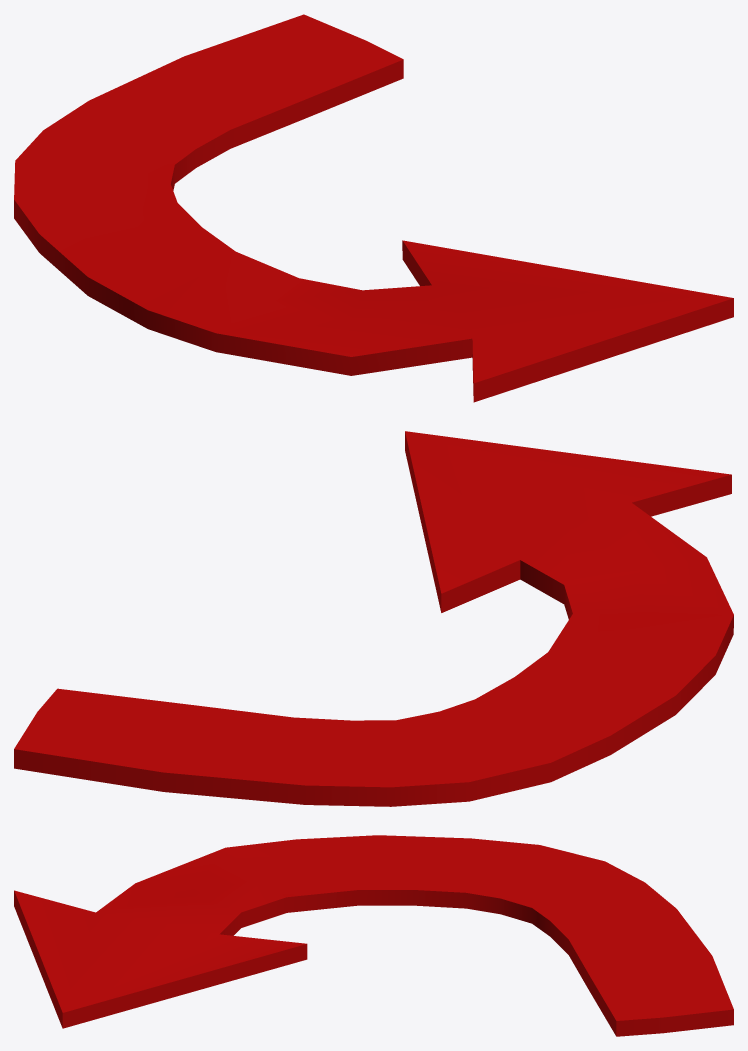
File: buoyyajirusi.fbx
3 renders of one model, top to bottom at view 1: azimuth 30°, elevation 25°; view 2: azimuth 150°, elevation 25°; view 3: azimuth 270°, elevation 25°, orthographic. The views are drawn at different scales.
Visible parts, largest first — view 1: pPlane1; view 2: pPlane1; view 3: pPlane1.
Boxes of the visible parts, <box> form: pPlane1: <box>14,14,733,402</box>; pPlane1: <box>14,431,733,806</box>; pPlane1: <box>14,835,733,1036</box>.
Bounding box in the file's own units: 33.08 × 2.35 × 54.21.
